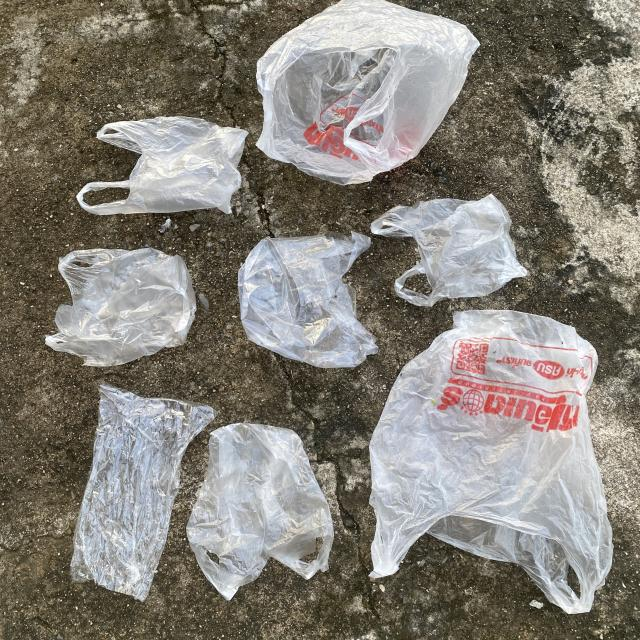Single-layer Plastic: (370, 310, 612, 614), (256, 0, 479, 185), (71, 385, 214, 600), (186, 424, 334, 600), (238, 232, 378, 368), (45, 248, 196, 366), (371, 195, 526, 306), (76, 116, 248, 215)
